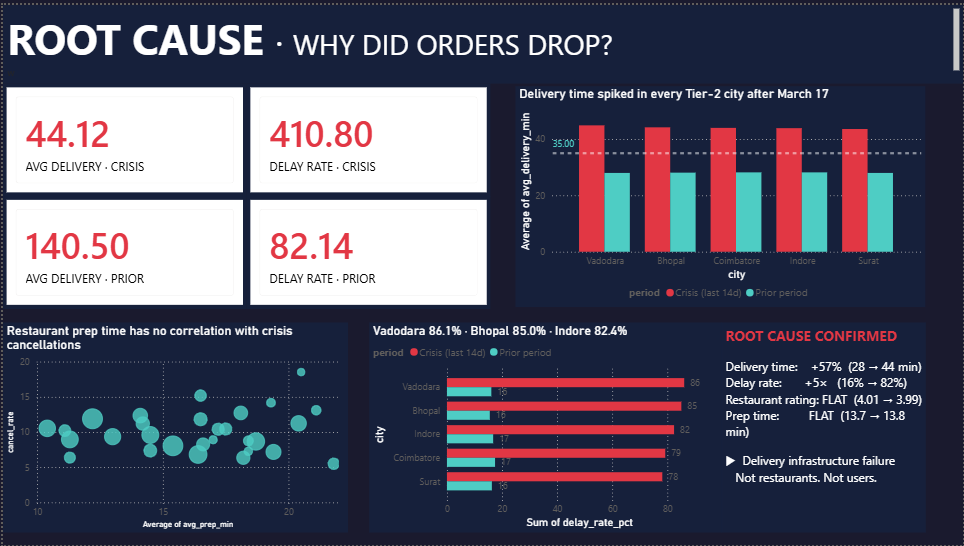

The dashboard page shown, as its layout file describes it:
{"tool":"powerbi","page":{"name":"ROOT CAUSE","canvas":[1280,720],"ordinal":2},"visuals":[{"type":"textbox","box":[0,0,1280,105],"z":0},{"type":"cardVisual","fields":{"Data":["Avg(pivot3_delivery_by_city_period.avg_delivery_min)"]},"box":[0,105,325,150],"z":1000},{"type":"cardVisual","fields":{"Data":["Sum(pivot3_delivery_by_city_period.delay_rate_pct)"]},"box":[325,255,325,150],"z":2000},{"type":"cardVisual","fields":{"Data":["Sum(pivot3_delivery_by_city_period.avg_delivery_min)"]},"box":[0,255,325,150],"z":3000},{"type":"cardVisual","fields":{"Data":["Sum(pivot3_delivery_by_city_period.delay_rate_pct)"]},"box":[325,105,325,150],"z":4000},{"type":"clusteredColumnChart","title":"Delivery time spiked in every Tier-2 city after March 17","fields":{"Category":["pivot3_delivery_by_city_period.city"],"Y":["Avg(pivot3_delivery_by_city_period.avg_delivery_min)"],"Series":["pivot3_delivery_by_city_period.period"]},"box":[684,108,546,294],"z":5000},{"type":"scatterChart","title":"Restaurant prep time has no correlation with crisis cancellations","fields":{"X":["pivot5_restaurant_rating_performance.avg_prep_min"],"Y":["pivot5_restaurant_rating_performance.cancel_rate"],"Size":["Sum(pivot5_restaurant_rating_performance.orders)"]},"box":[0,424,460,280],"z":6000},{"type":"clusteredBarChart","title":"Vadodara 86.1% · Bhopal 85.0% · Indore 82.4%","fields":{"Category":["pivot3_delivery_by_city_period.city"],"Y":["Sum(pivot3_delivery_by_city_period.delay_rate_pct)"],"Series":["pivot3_delivery_by_city_period.period"]},"box":[488,424,470,280],"z":7000},{"type":"textbox","box":[958,424,272,280],"z":8000}]}

Visuals, with their boxes in screenshot pixels (x1, y1, x2, y2), scaled from the page's 1280x720 canvas onto the 964x546 screenshot:
textbox: left=0, top=0, right=963, bottom=80
cardVisual - Avg(pivot3_delivery_by_city_period.avg_delivery_min): left=0, top=80, right=245, bottom=193
cardVisual - Sum(pivot3_delivery_by_city_period.delay_rate_pct): left=245, top=193, right=490, bottom=307
cardVisual - Sum(pivot3_delivery_by_city_period.avg_delivery_min): left=0, top=193, right=245, bottom=307
cardVisual - Sum(pivot3_delivery_by_city_period.delay_rate_pct): left=245, top=80, right=490, bottom=193
"Delivery time spiked in every Tier-2 city after March 17" clusteredColumnChart: left=515, top=82, right=926, bottom=305
"Restaurant prep time has no correlation with crisis cancellations" scatterChart: left=0, top=322, right=346, bottom=534
"Vadodara 86.1% · Bhopal 85.0% · Indore 82.4%" clusteredBarChart: left=368, top=322, right=721, bottom=534
textbox: left=721, top=322, right=926, bottom=534
